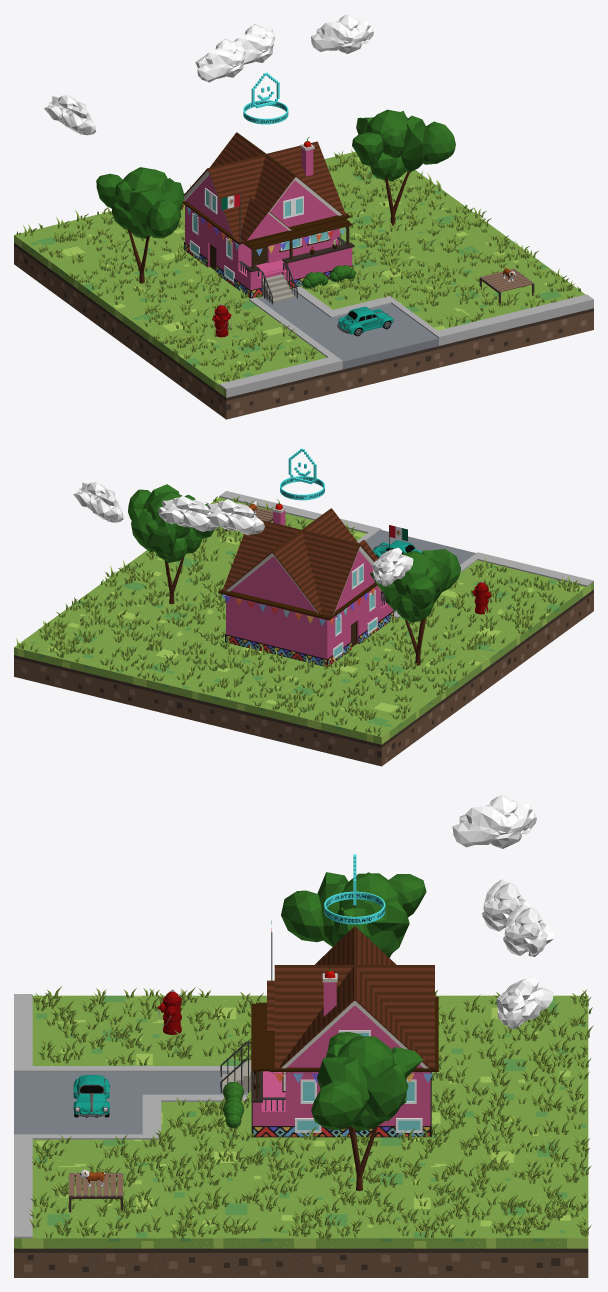
3 renders of one model, top to bottom at view 1: azimuth 30°, elevation 25°; view 2: azimuth 150°, elevation 25°; view 3: azimuth 270°, elevation 25°, orthographic. The views are drawn at different scales.
Parts seen in each view (by area): view 1: Cube.006, Cube.1005, Circle.012_Grass_0.192, Cube.007, tree, tree.001, VEHICLES_VOLKSWAGEN, TYPE_PREMIUM, Cube.009; view 2: Cube.006, Cube.1005, Circle.012_Grass_0.192, Cube.007, tree.001, tree, TYPE_PREMIUM, OBJRANDOM_FIRE_HYDRANT; view 3: Cube.006, Circle.012_Grass_0.192, Cube.1005, tree, Cube.007, tree.001, VEHICLES_VOLKSWAGEN, Cube.009, TYPE_PREMIUM, OBJRANDOM_FIRE_HYDRANT.
Part boxes in pixels (x1,y1,x2,y2): Cube.006: [14, 151, 593, 419]; Cube.1005: [181, 132, 354, 304]; Circle.012_Grass_0.192: [16, 149, 580, 381]; Cube.007: [44, 14, 373, 135]; tree: [352, 109, 455, 225]; tree.001: [96, 167, 184, 283]; VEHICLES_VOLKSWAGEN: [337, 306, 393, 336]; TYPE_PREMIUM: [243, 72, 288, 124]; Cube.009: [479, 268, 534, 303]; Cube.006: [14, 491, 593, 766]; Cube.1005: [218, 499, 407, 666]; Circle.012_Grass_0.192: [16, 496, 580, 736]; Cube.007: [73, 481, 413, 586]; tree.001: [370, 549, 460, 665]; tree: [128, 484, 214, 604]; TYPE_PREMIUM: [280, 448, 324, 500]; OBJRANDOM_FIRE_HYDRANT: [472, 580, 491, 614]; Cube.006: [14, 994, 588, 1277]; Circle.012_Grass_0.192: [29, 986, 593, 1239]; Cube.1005: [220, 920, 438, 1137]; tree: [311, 1032, 422, 1190]; Cube.007: [452, 795, 553, 1029]; tree.001: [281, 872, 426, 957]; VEHICLES_VOLKSWAGEN: [73, 1075, 109, 1117]; Cube.009: [69, 1172, 122, 1212]; TYPE_PREMIUM: [324, 854, 385, 924]; OBJRANDOM_FIRE_HYDRANT: [158, 989, 181, 1034].
Bounding box in the file's own units: 4071 × 2278 × 4040.
76 materials, 6 textured.
